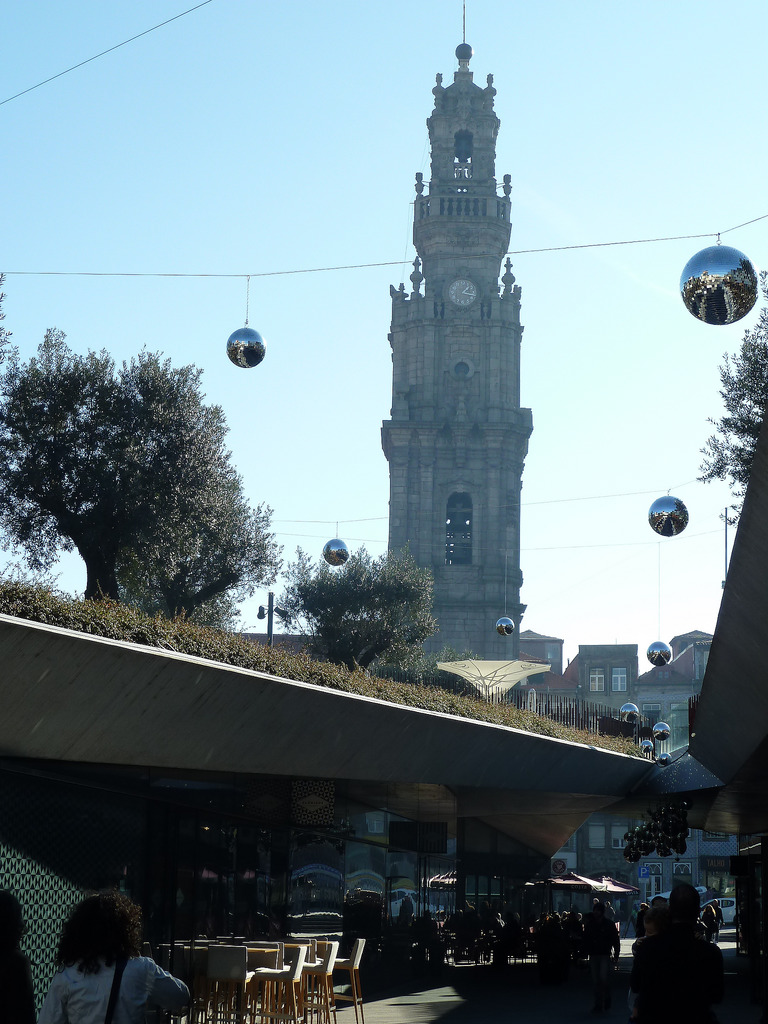clerigos: (381, 0, 535, 662)
